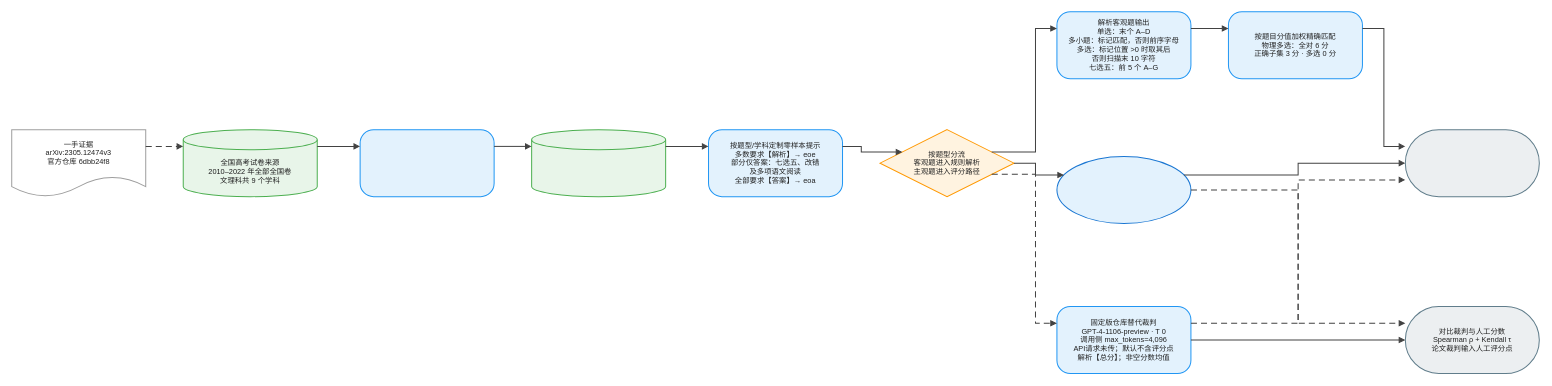
The diagram is 1552 pixels wide and 386 high, and some of its shapes have lost their labels. Each missing label, with the centre of its shape:
"发布 2,811 道题 客观题 1,781：1,418/273/64/26 主观题 1,030：786/218/26" goes at pixel 598 163.
"汇总得分率 实得分 / 满分 分学科客观与主观得分率 理科/文科折算总分 / 750" goes at pixel 1472 163.
"脚本与人工联合数字化 PDF → 结构化 JSON 数学公式 → LaTeX" goes at pixel 426 163.
"论文主路径：主观题人工评分 每份答案由两位教师评分 取两人平均分" goes at pixel 1123 190.
